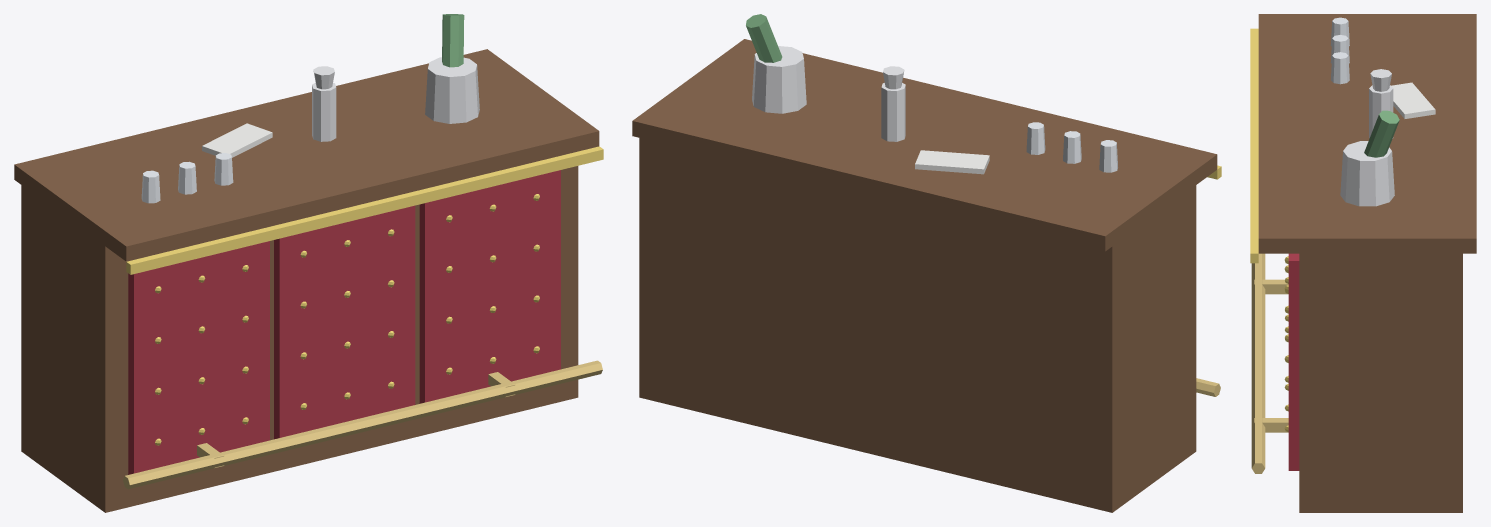
File: HJ_BarraSalon.fbx
The picture shows the model from 3 angles, left to right: view 1: azimuth 30°, elevation 25°; view 2: azimuth 150°, elevation 25°; view 3: azimuth 270°, elevation 25°; orthographic projection. The views are drawn at different scales.
Visible parts, largest first — view 1: HJ_BarraSalon; view 2: HJ_BarraSalon; view 3: HJ_BarraSalon.
Boxes of the visible parts, x1,y1,x2,y2 form: HJ_BarraSalon: [14, 14, 603, 512]; HJ_BarraSalon: [632, 14, 1221, 512]; HJ_BarraSalon: [1250, 14, 1476, 512].
Size of the model in its own units: 1.95 by 1.46 by 0.83.
